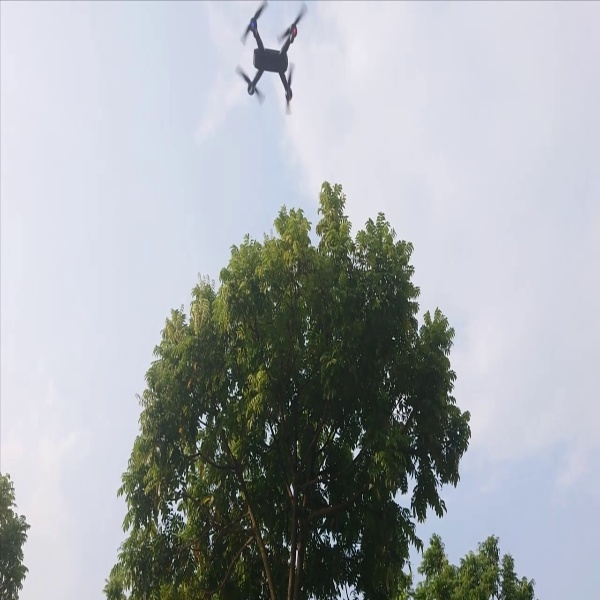drone: (235, 1, 315, 113)
